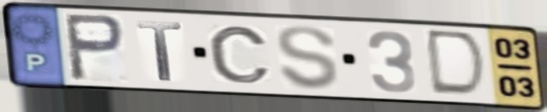3: (365, 29, 418, 94)
C: (205, 24, 274, 86)
D: (426, 27, 491, 100)
P: (61, 11, 128, 84)
S: (273, 23, 342, 92)
T: (134, 19, 186, 84)
